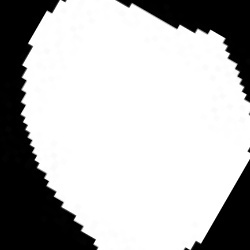spot: (21, 2, 249, 248)
